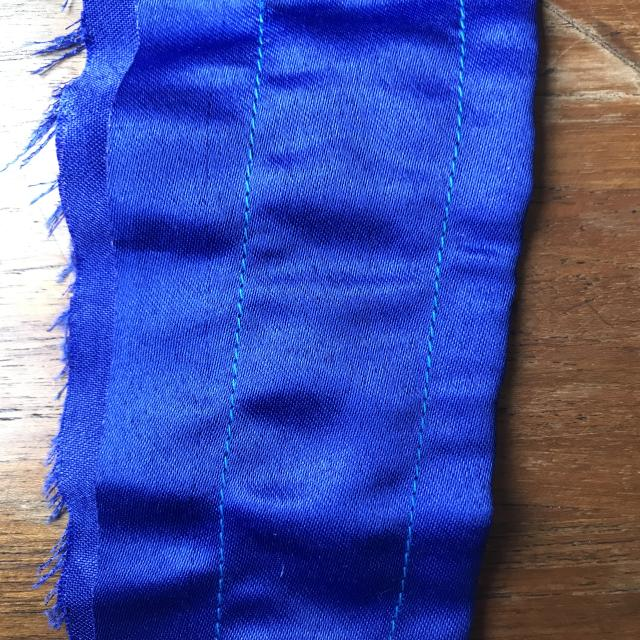good: (412, 256, 457, 422)
